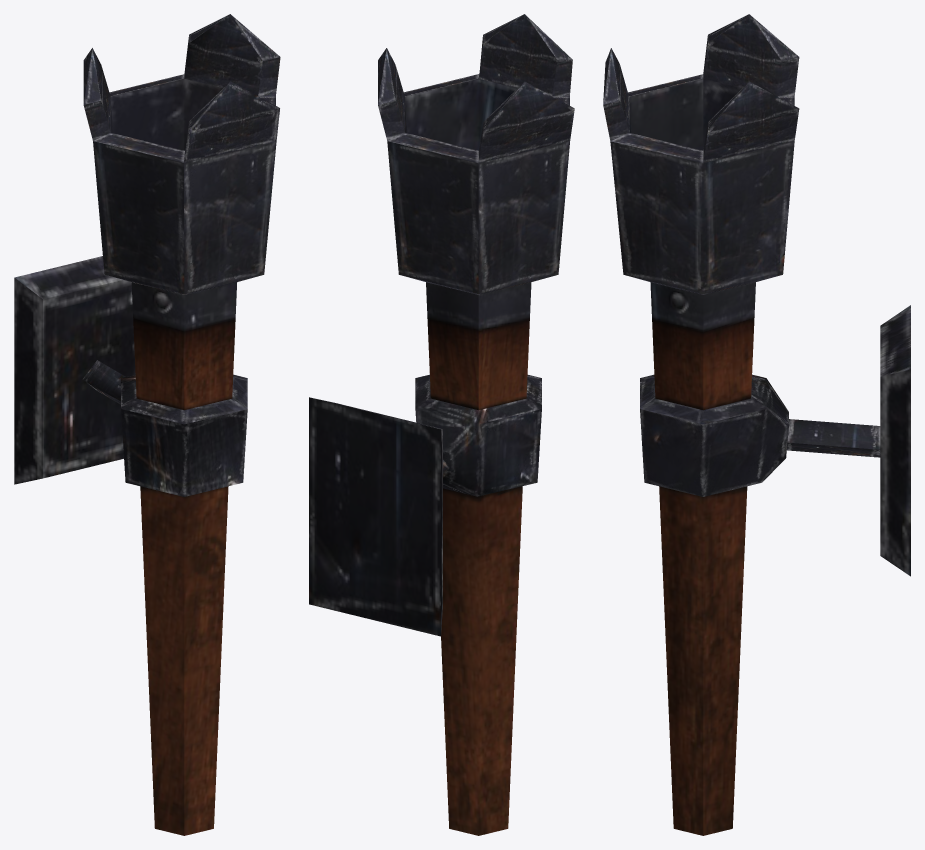
File: torch.obj
The picture shows the model from 3 angles, left to right: view 1: azimuth 30°, elevation 25°; view 2: azimuth 150°, elevation 25°; view 3: azimuth 270°, elevation 25°; orthographic projection.
Visible parts, largest first — view 1: torch_mesh; view 2: torch_mesh; view 3: torch_mesh.
Part boxes in pixels (box(x1,y1,x2,y2)): torch_mesh: box(14, 14, 280, 835); torch_mesh: box(309, 14, 574, 835); torch_mesh: box(603, 14, 910, 835).
Size of the model in its own units: 5.88 by 22.07 by 7.95.
Materials: 1 (1 with a texture image).
